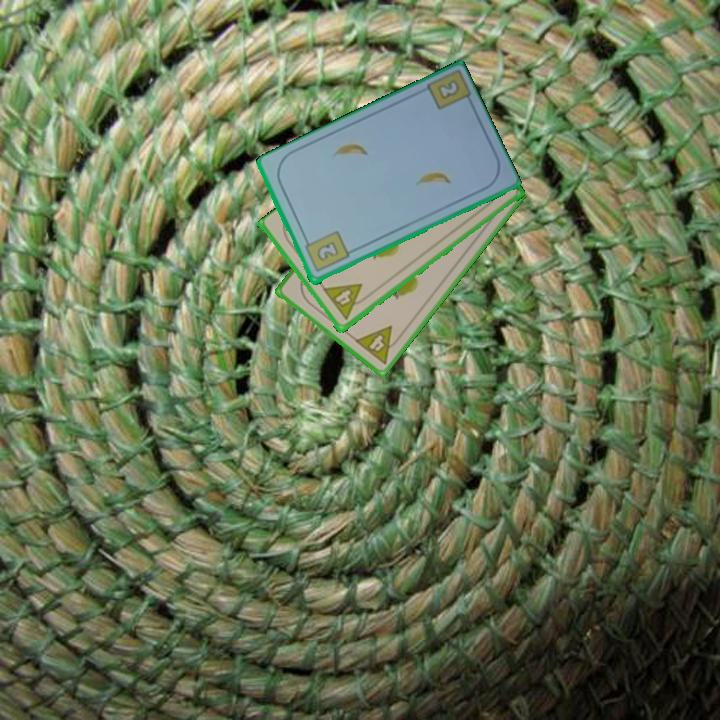2b: (301, 228, 352, 275), (433, 76, 462, 103)
4p: (351, 322, 405, 367), (320, 280, 372, 323)
